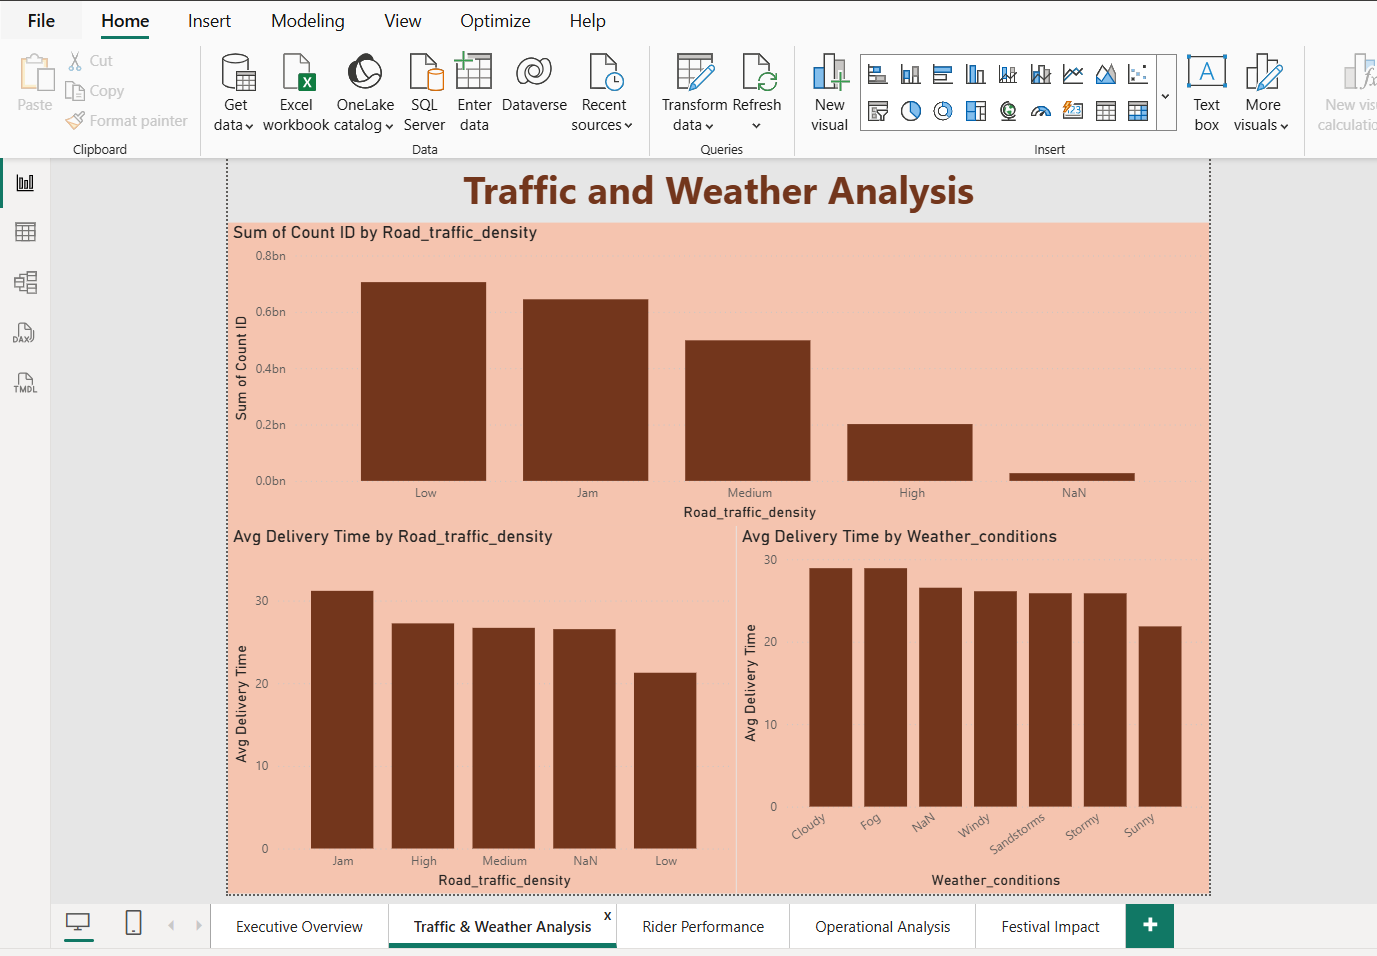

This screenshot's page, from the dashboard's own definition file:
{"tool":"powerbi","page":{"name":"Traffic & Weather Analysis","canvas":[960,720],"ordinal":1},"visuals":[{"type":"clusteredColumnChart","fields":{"Category":["data set.Road_traffic_density"],"Y":["data set.Avg Delivery Time"]},"box":[0,360,497.1,360],"z":0},{"type":"clusteredColumnChart","fields":{"Category":["data set.Weather_conditions"],"Y":["data set.Avg Delivery Time"]},"box":[497.1,360,462.9,360],"z":1000},{"type":"clusteredColumnChart","fields":{"Category":["data set.Road_traffic_density"],"Y":["Sum(data set.Count ID)"]},"box":[968.3,288.3,311.7,350],"z":2000},{"type":"clusteredColumnChart","fields":{"Category":["data set.Road_traffic_density"],"Y":["Sum(data set.Count ID)"]},"box":[0,62.5,960,297.5],"z":3000},{"type":"textbox","box":[0,0,960,63.3],"z":4000}]}

Visuals, with their boxes on the page's 960x720 design canvas (x1, y1, x2, y2). These are canvas units, not pixel positions in the 1377x956 screenshot, which may show the page scaled, cropped or inside an application window:
clusteredColumnChart - data set.Road_traffic_density x data set.Avg Delivery Time: box=[0, 360, 497, 720]
clusteredColumnChart - data set.Weather_conditions x data set.Avg Delivery Time: box=[497, 360, 960, 720]
clusteredColumnChart - data set.Road_traffic_density x Sum(data set.Count ID): box=[968, 288, 1280, 638]
clusteredColumnChart - data set.Road_traffic_density x Sum(data set.Count ID): box=[0, 62, 960, 360]
textbox: box=[0, 0, 960, 63]
